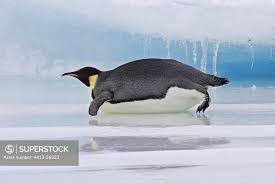king: (55, 45, 245, 131)
